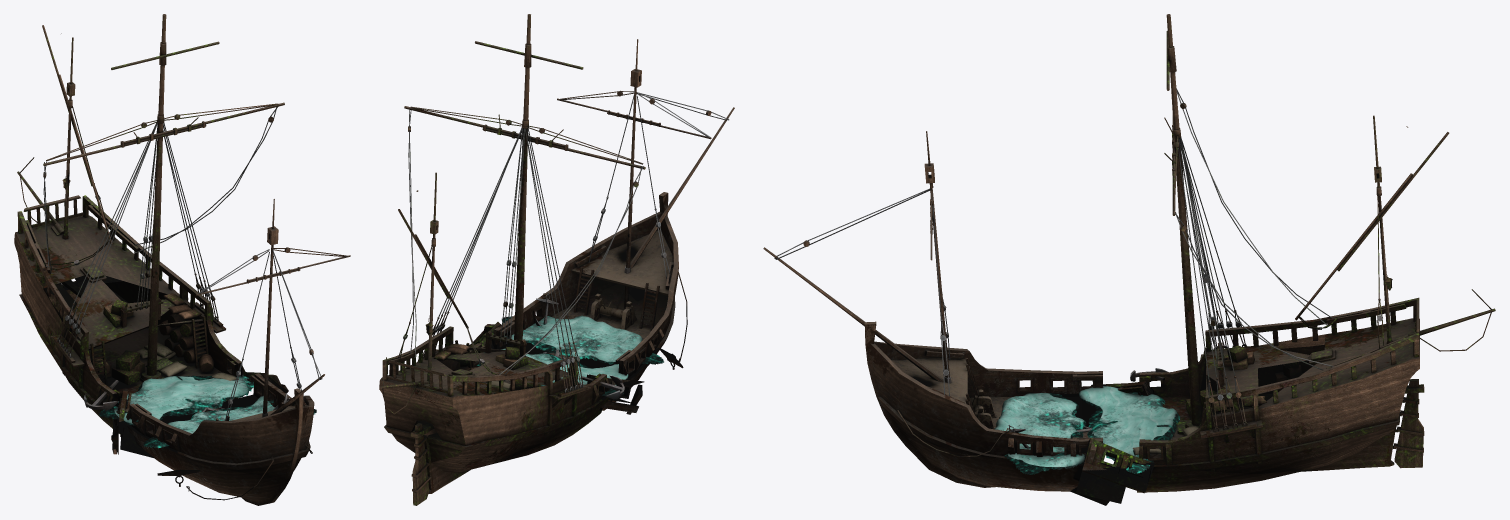
Rendered from envirment.fbx.
3 views of the same model, side by side, from view 1: azimuth 30°, elevation 25°; view 2: azimuth 150°, elevation 25°; view 3: azimuth 270°, elevation 25° (orthographic). The views are drawn at different scales.
Visible parts, largest first — view 1: ship_left_side, Ship_right, sand, Detail, ship_broken; view 2: ship_left_side, Ship_right, sand, Detail, ship_broken; view 3: ship_left_side, Ship_right, sand, ship_broken, Detail.
Part boxes in pixels (x1=…): ship_left_side: x1=14, y1=14, x2=284, y2=434; Ship_right: x1=61, y1=33, x2=350, y2=505; sand: x1=99, y1=374, x2=316, y2=448; Detail: x1=59, y1=175, x2=238, y2=385; ship_broken: x1=113, y1=372, x2=288, y2=458; ship_left_side: x1=379, y1=14, x2=645, y2=505; Ship_right: x1=416, y1=39, x2=734, y2=414; sand: x1=477, y1=315, x2=663, y2=396; Detail: x1=425, y1=318, x2=540, y2=391; ship_broken: x1=469, y1=322, x2=644, y2=402; ship_left_side: x1=1137, y1=14, x2=1495, y2=492; Ship_right: x1=763, y1=126, x2=1408, y2=491; sand: x1=994, y1=386, x2=1180, y2=474; ship_broken: x1=1071, y1=381, x2=1154, y2=505; Detail: x1=1132, y1=274, x2=1392, y2=455.
Size of the model in its own units: 2364 by 3998 by 5619.
Materials: 5 (5 with a texture image).
